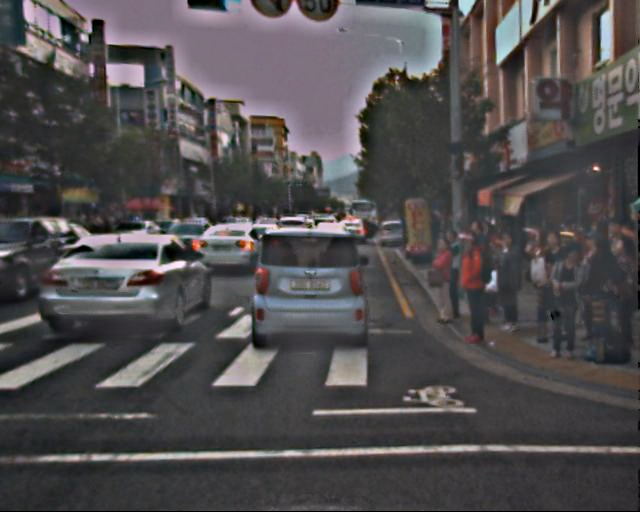person: (545, 241, 593, 357), (590, 218, 637, 332), (598, 237, 640, 359), (453, 239, 496, 345), (527, 229, 570, 335), (457, 218, 500, 324), (578, 239, 619, 340), (488, 232, 527, 326), (435, 229, 471, 316), (427, 237, 461, 320)
